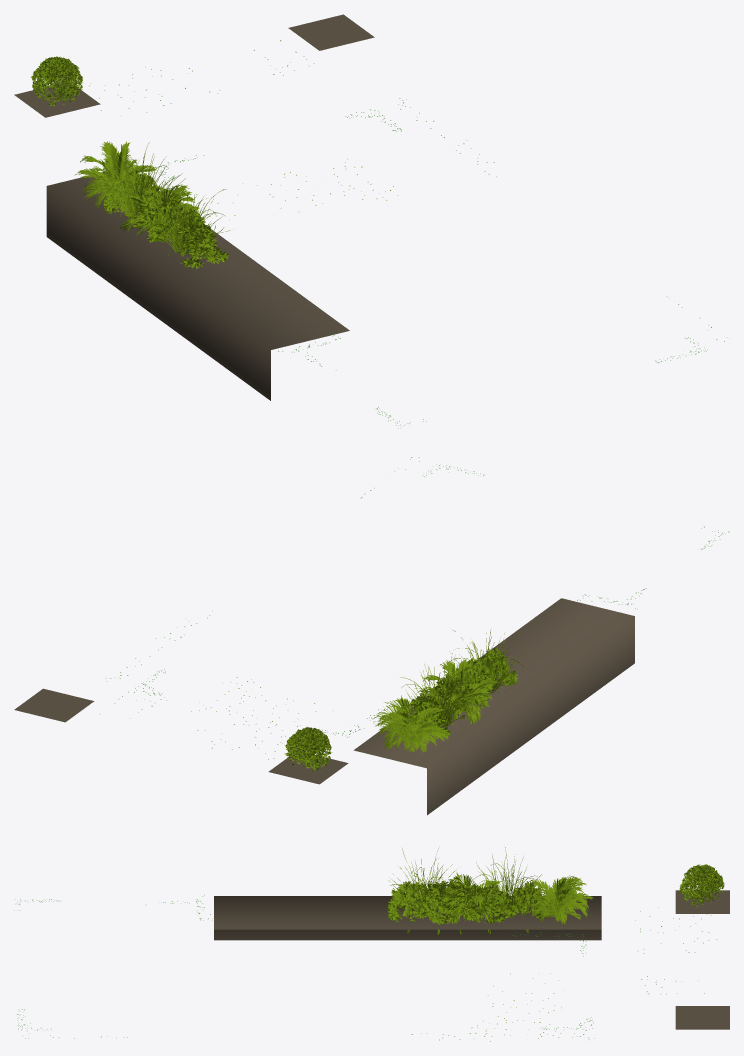
The model's file is pool_plant.gltf.
The picture shows the model from 3 angles, top to bottom: view 1: azimuth 30°, elevation 25°; view 2: azimuth 150°, elevation 25°; view 3: azimuth 270°, elevation 25°; orthographic projection. The views are drawn at different scales.
Visible parts, largest first — view 1: Object34290, Object.001, plant023, Plant_118, Cattail__Plant_d011, plant_066, plant022, Cattail__Plant_d010, plant_067, plant_069; view 2: Object34290, Object.001, plant023, plant022, Plant_118, Cattail__Plant_d011, Cattail__Plant_d010, plant_066, plant_067, plant_068; view 3: Object34290, Object.001, plant023, plant022, Plant_118, Cattail__Plant_d011, plant_066, plant_067, plant_069, plant_068, Cattail__Plant_d010, plant_061.
Boxes of the visible parts, x1,y1,x2,y2 form: Object34290: (46, 167, 349, 400); Object.001: (14, 14, 374, 117); plant023: (74, 141, 157, 211); Plant_118: (31, 56, 82, 106); Cattail__Plant_d011: (92, 142, 185, 217); plant_066: (176, 218, 229, 268); plant022: (119, 184, 200, 241); Cattail__Plant_d010: (133, 181, 230, 256); plant_067: (103, 169, 157, 216); plant_069: (157, 207, 205, 254); Object34290: (353, 598, 634, 815); Object.001: (14, 688, 348, 784); plant023: (373, 695, 448, 752); plant022: (419, 659, 498, 723); Plant_118: (282, 727, 332, 771); Cattail__Plant_d011: (397, 653, 488, 734); Cattail__Plant_d010: (450, 628, 524, 694); plant_066: (475, 648, 517, 686); plant_067: (410, 692, 450, 737); plant_068: (430, 678, 471, 724); Object34290: (214, 896, 601, 940); Object.001: (675, 890, 729, 1029); plant023: (527, 875, 593, 924); plant022: (441, 872, 507, 923); Plant_118: (679, 864, 724, 906); Cattail__Plant_d011: (470, 847, 544, 919); plant_066: (387, 880, 434, 933); plant_067: (503, 881, 551, 933); plant_069: (414, 880, 451, 934); plant_068: (467, 883, 511, 934); Cattail__Plant_d010: (388, 848, 455, 914); plant_061: (441, 880, 482, 934).
Size of the model in its own units: 4.59 by 1.4 by 8.72.
3 materials, 1 textured.
